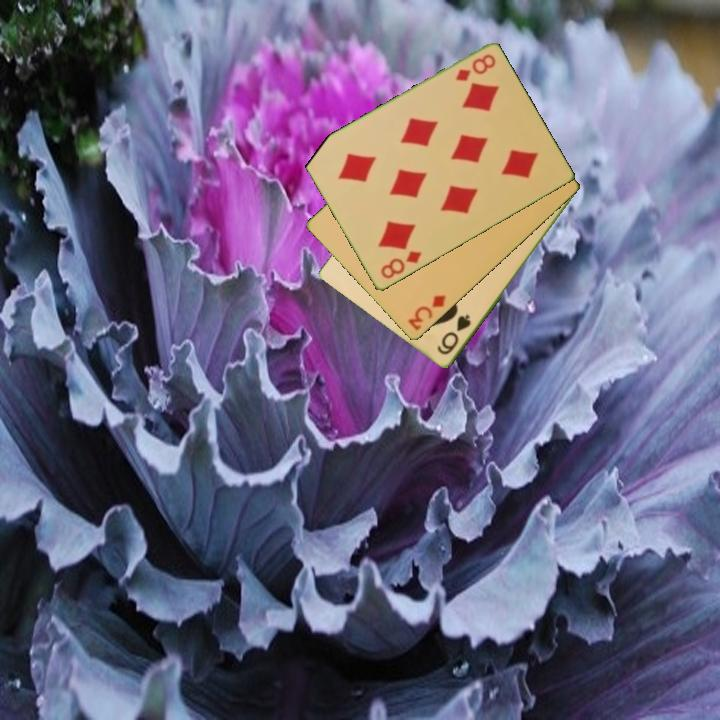3d: (404, 291, 449, 334)
6s: (433, 311, 474, 358)
8d: (377, 247, 425, 282), (452, 51, 499, 85)
